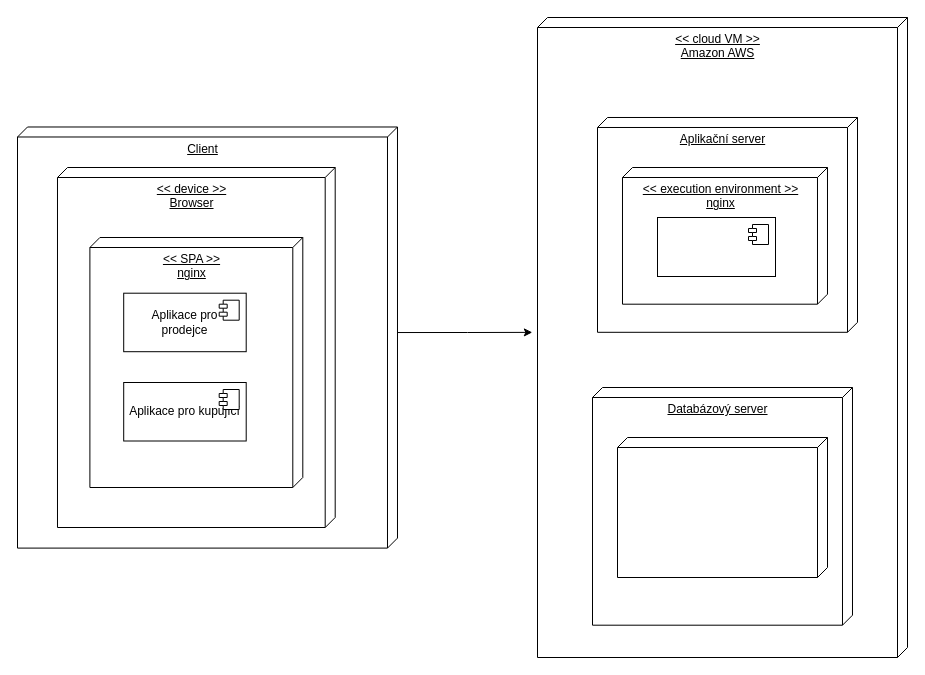
This 925x675 diagram has some shape labels left out. Here are the shapes that lost their labels. From the top down, the centre of each, then its label:
At [716,246]: "API".
At [722,507]: "<< database >> Amazon DynamoDB".
